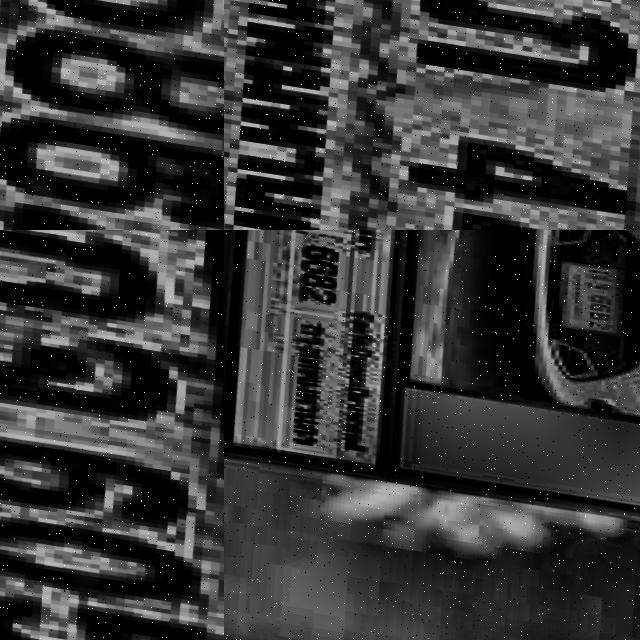license-plate: (224, 0, 640, 230), (0, 230, 224, 640), (0, 0, 224, 230), (553, 264, 619, 332)
